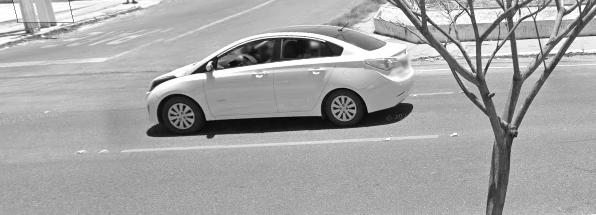car: (142, 20, 419, 138)
